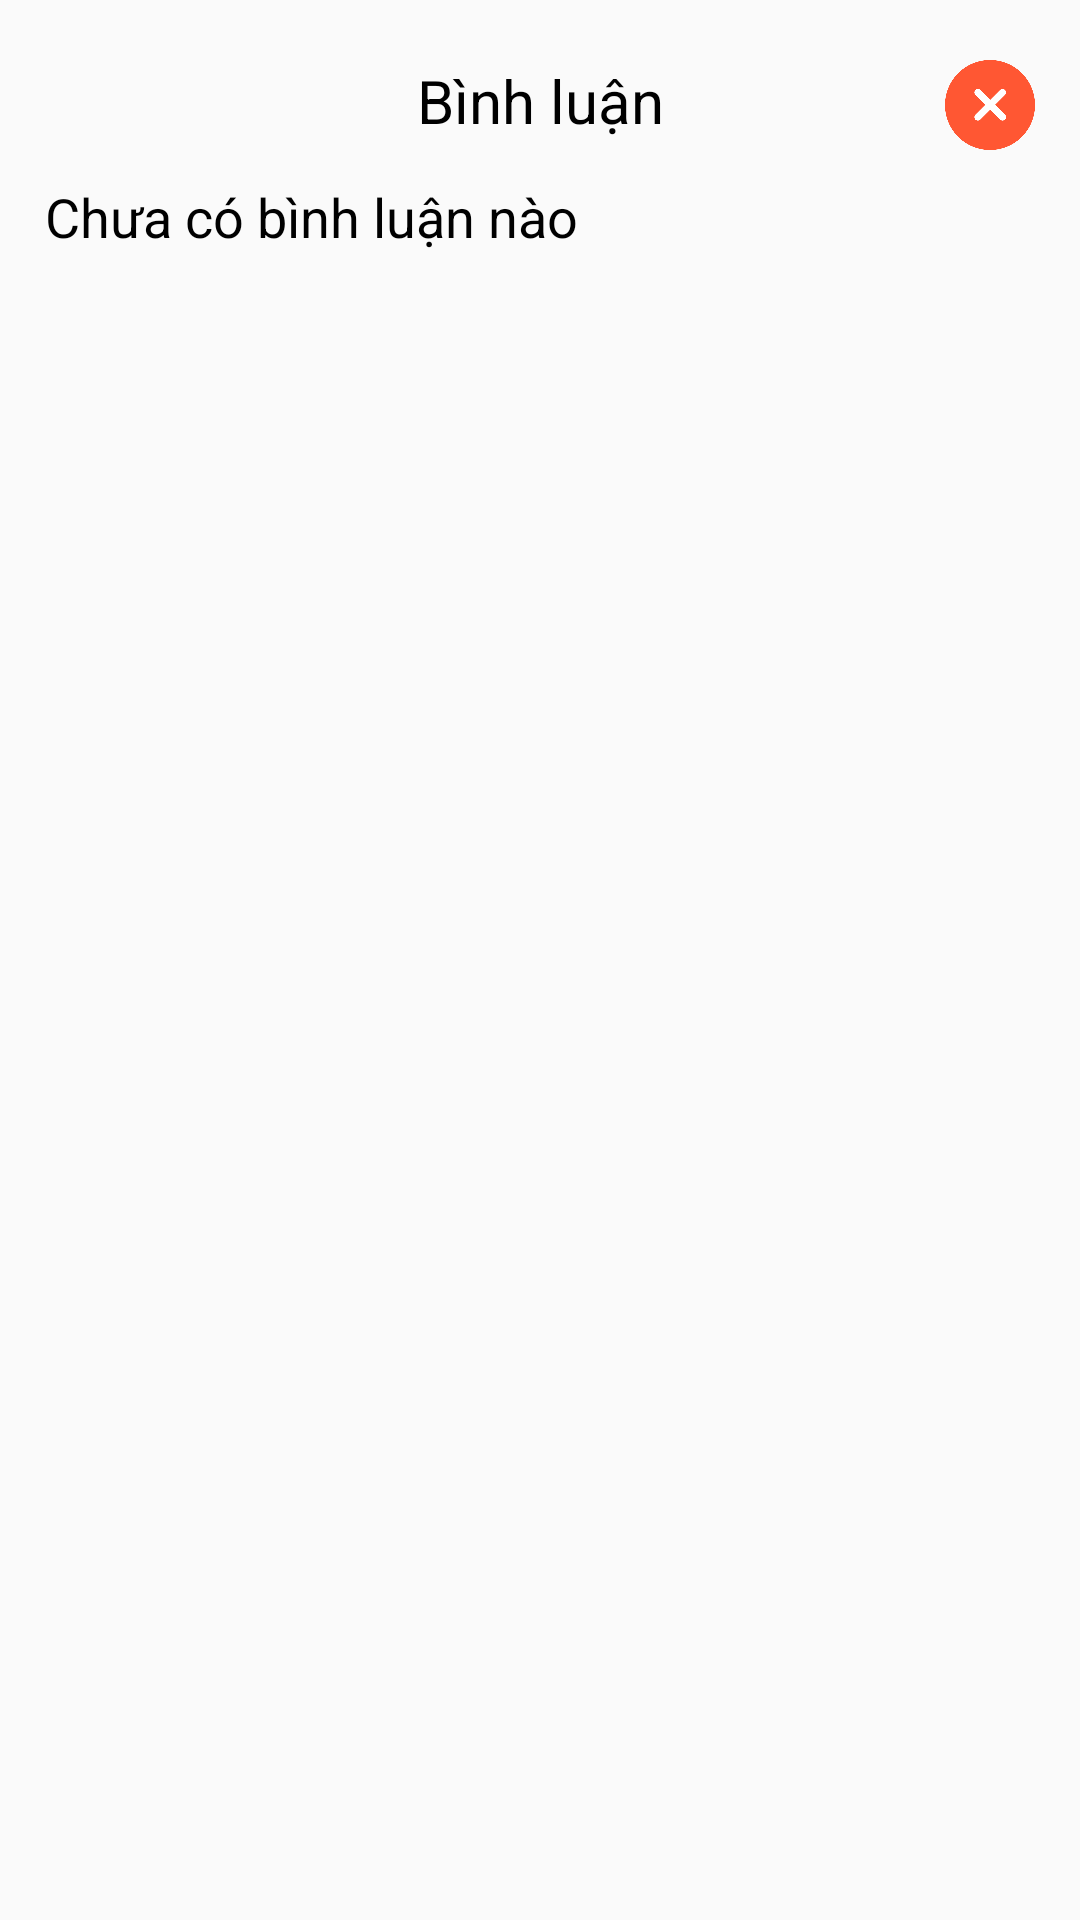

Locate icon controls on the screen. Image size 1080*1920, boxes as detection(x1, y1, x2, y2).
cancel: detection(945, 60, 1035, 150)
